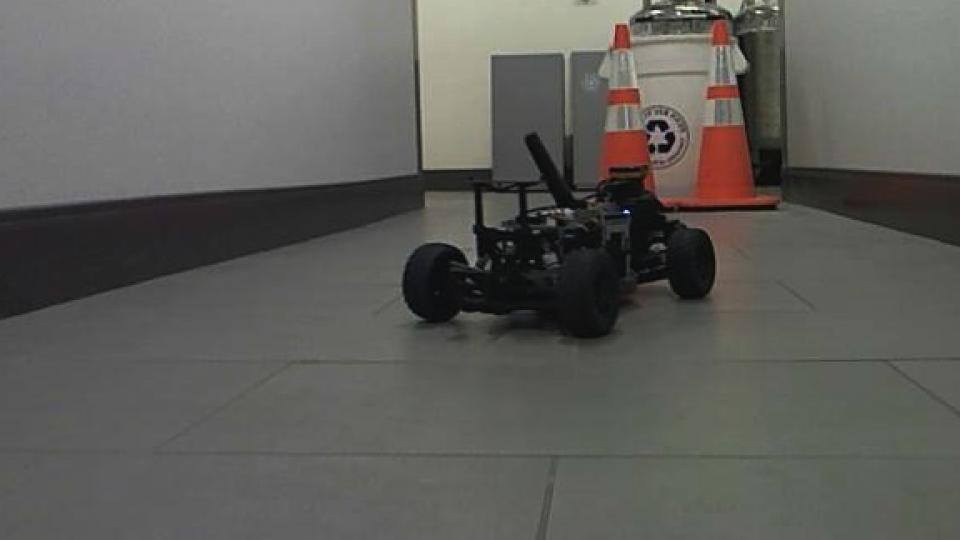car: (397, 130, 718, 342)
